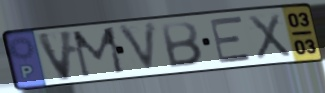B: (159, 20, 205, 69)
E: (207, 15, 255, 66)
M: (69, 25, 129, 81)
V: (115, 19, 159, 76), (33, 28, 76, 84)
X: (245, 11, 294, 62)
